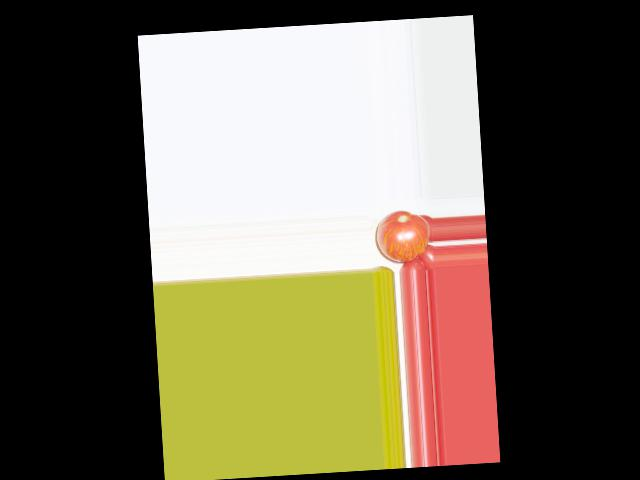tomato: (375, 208, 431, 264)
